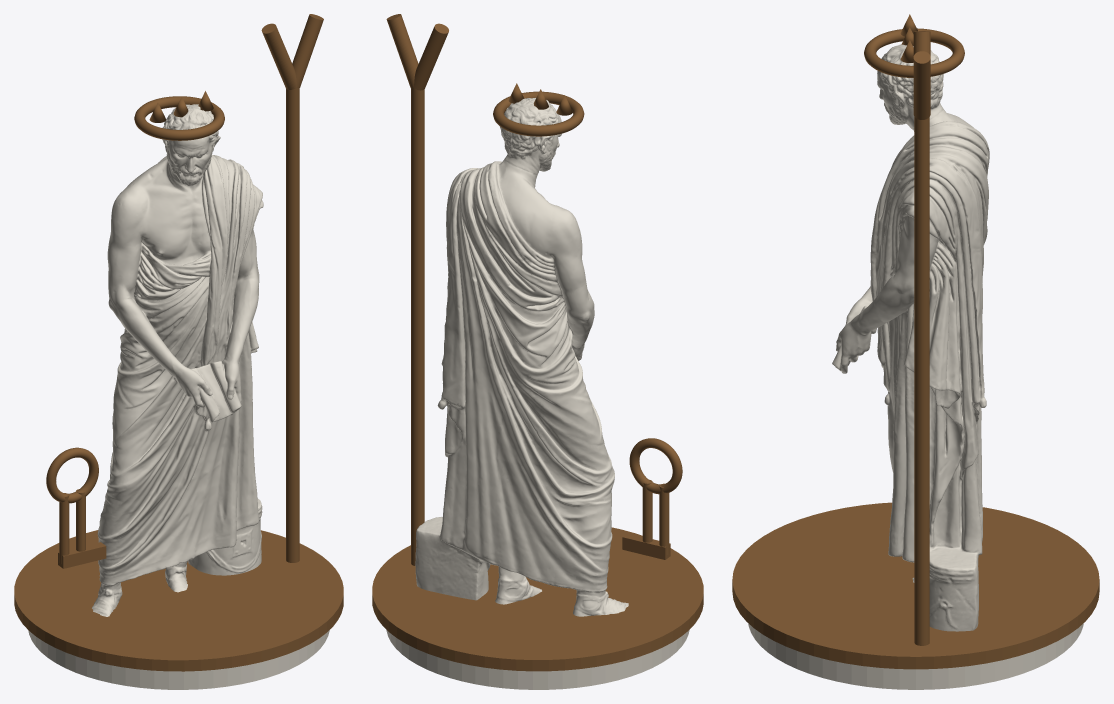
File: hades.glb
3 renders of one model, left to right at view 1: azimuth 30°, elevation 25°; view 2: azimuth 150°, elevation 25°; view 3: azimuth 270°, elevation 25°, orthographic. The views are drawn at different scales.
Visible parts, largest first — view 1: Figura drapeada · base KAS629, Moldura del plinto, Asta del bidente, Plinto principal, Diadema del inframundo, Aro de las llaves, Púa izquierda, Púa derecha, Llave del inframundo, Llave del inframundo.001; view 2: Figura drapeada · base KAS629, Moldura del plinto, Asta del bidente, Plinto principal, Diadema del inframundo, Aro de las llaves, Púa izquierda, Púa derecha, Llave del inframundo, Llave del inframundo.001; view 3: Figura drapeada · base KAS629, Moldura del plinto, Asta del bidente, Plinto principal, Diadema del inframundo, Púa derecha.
Part boxes in pixels (x1,y1,x2,y2): Figura drapeada · base KAS629: (92,104,263,616); Moldura del plinto: (14,530,343,671); Asta del bidente: (286,88,299,562); Plinto principal: (28,630,329,689); Diadema del inframundo: (134,96,224,140); Aro de las llaves: (46,447,98,503); Púa izquierda: (261,23,296,89); Púa derecha: (292,14,323,87); Llave del inframundo: (59,493,69,563); Llave del inframundo.001: (76,489,85,551); Figura drapeada · base KAS629: (415,98,628,616); Moldura del plinto: (372,527,703,671); Asta del bidente: (411,88,424,565); Plinto principal: (386,630,689,689); Diadema del inframundo: (493,91,584,136); Aro de las llaves: (629,438,682,494); Púa izquierda: (414,23,448,90); Púa derecha: (386,14,418,88); Llave del inframundo: (659,483,669,554); Llave del inframundo.001: (642,479,652,542); Figura drapeada · base KAS629: (832,44,989,631); Moldura del plinto: (732,502,1099,669); Asta del bidente: (914,117,929,645); Plinto principal: (748,623,1083,689); Diadema del inframundo: (864,28,964,77); Púa derecha: (913,51,930,119).
Size of the model in its own units: 1.22 by 2.31 by 1.2.
